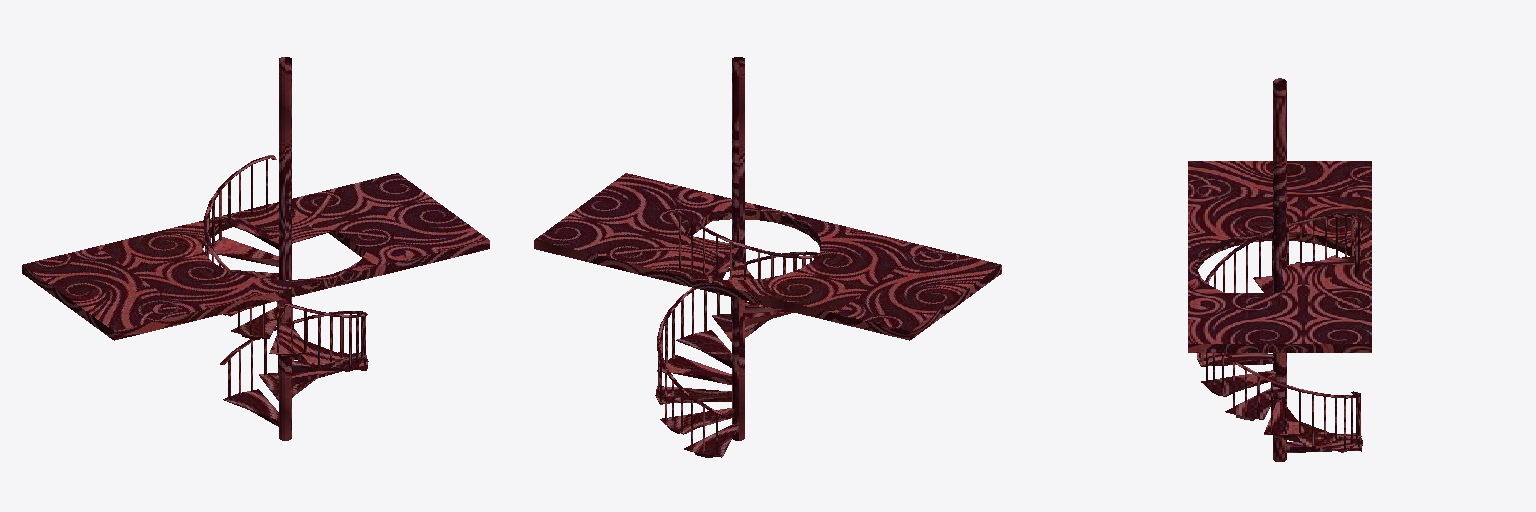
3 renders of one model, left to right at view 1: azimuth 30°, elevation 25°; view 2: azimuth 150°, elevation 25°; view 3: azimuth 270°, elevation 25°, orthographic.
Visible parts, largest first — view 1: pPlane13 group4, group4 polySurface159; view 2: pPlane13 group4, group4 polySurface159; view 3: pPlane13 group4, group4 polySurface159.
Part boxes in pixels (x1,y1,x2,y2): pPlane13 group4: (22, 173, 489, 340); group4 polySurface159: (204, 57, 368, 440); pPlane13 group4: (534, 173, 1001, 340); group4 polySurface159: (655, 57, 818, 457); pPlane13 group4: (1188, 161, 1371, 352); group4 polySurface159: (1197, 78, 1362, 461).
Size of the model in its own units: 6.63 by 6.39 by 2.8.
1 materials, 1 textured.